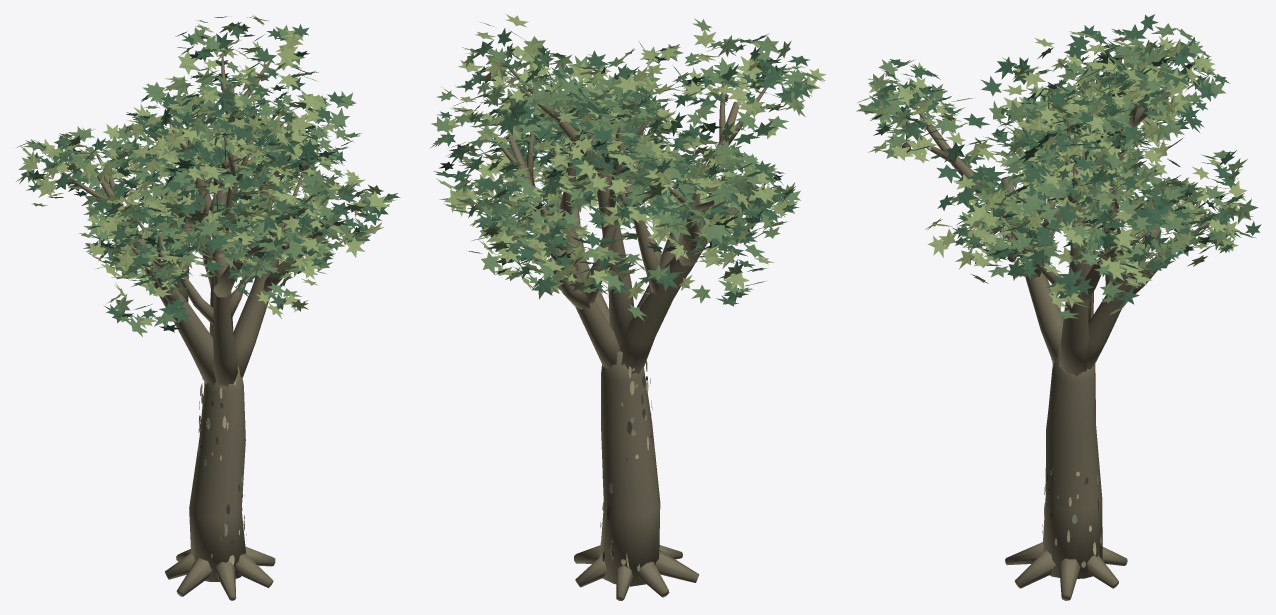
File: xinhua-plane-tree-hero.glb
The picture shows the model from 3 angles, left to right: view 1: azimuth 30°, elevation 25°; view 2: azimuth 150°, elevation 25°; view 3: azimuth 270°, elevation 25°; orthographic projection. The views are drawn at different scales.
Visible parts, largest first — view 1: PlaneTree_Wood, PlaneTree_Leaf_Light, PlaneTree_Leaf_Mid, PlaneTree_Leaf_Dark, PlaneTree_Bark_Umber; view 2: PlaneTree_Wood, PlaneTree_Leaf_Mid, PlaneTree_Leaf_Light, PlaneTree_Leaf_Dark; view 3: PlaneTree_Wood, PlaneTree_Leaf_Dark, PlaneTree_Leaf_Light, PlaneTree_Leaf_Mid.
Part boxes in pixels (box(x1,y1,x2,y2)): PlaneTree_Wood: box(62, 56, 340, 600); PlaneTree_Leaf_Light: box(18, 15, 395, 326); PlaneTree_Leaf_Mid: box(16, 20, 372, 336); PlaneTree_Leaf_Dark: box(23, 16, 400, 332); PlaneTree_Bark_Umber: box(198, 136, 350, 569); PlaneTree_Wood: box(489, 65, 769, 600); PlaneTree_Leaf_Mid: box(431, 18, 822, 321); PlaneTree_Leaf_Light: box(430, 14, 826, 299); PlaneTree_Leaf_Dark: box(433, 22, 816, 306); PlaneTree_Wood: box(905, 80, 1208, 600); PlaneTree_Leaf_Dark: box(862, 14, 1261, 306); PlaneTree_Leaf_Light: box(857, 31, 1253, 315); PlaneTree_Leaf_Mid: box(856, 23, 1258, 318).
Bounding box in the file's own units: 8.53 × 13.12 × 8.78.
